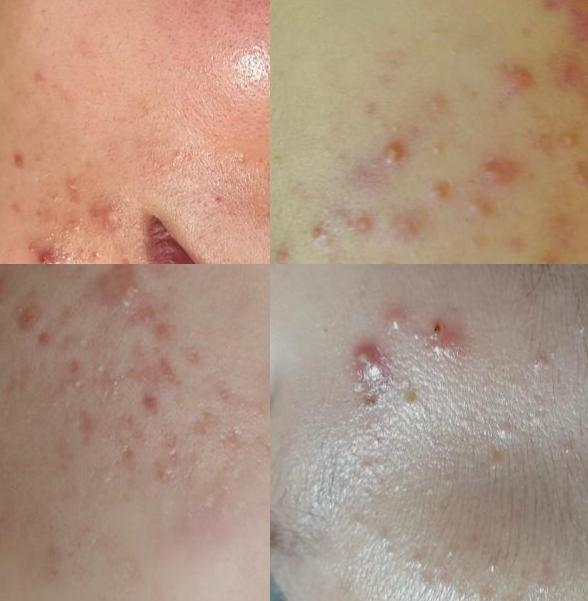acne_scars: (123, 351, 182, 391), (153, 417, 188, 452), (193, 398, 219, 438), (154, 320, 182, 341)
blackhead: (88, 237, 105, 265), (49, 184, 63, 209)
papular: (88, 265, 152, 321), (474, 143, 537, 191), (418, 318, 470, 368), (483, 54, 533, 104), (89, 196, 134, 235), (11, 294, 48, 336), (136, 383, 168, 422), (31, 243, 66, 265), (11, 151, 29, 174)
purulent: (380, 128, 421, 182), (380, 303, 415, 344)
sebo-crystan-conglo: (347, 337, 397, 404)
whitehead: (422, 132, 452, 176), (353, 450, 385, 488), (549, 117, 581, 154), (527, 344, 560, 378), (63, 164, 90, 203), (395, 383, 428, 414), (348, 206, 379, 238), (490, 415, 523, 444), (431, 574, 466, 601), (530, 564, 555, 601), (55, 374, 89, 400), (552, 435, 582, 463), (410, 546, 434, 578), (271, 238, 299, 265), (441, 538, 466, 568), (483, 453, 511, 479), (480, 555, 504, 582), (311, 212, 328, 249), (470, 582, 500, 601), (77, 325, 92, 350), (92, 359, 108, 381), (578, 304, 588, 335)
